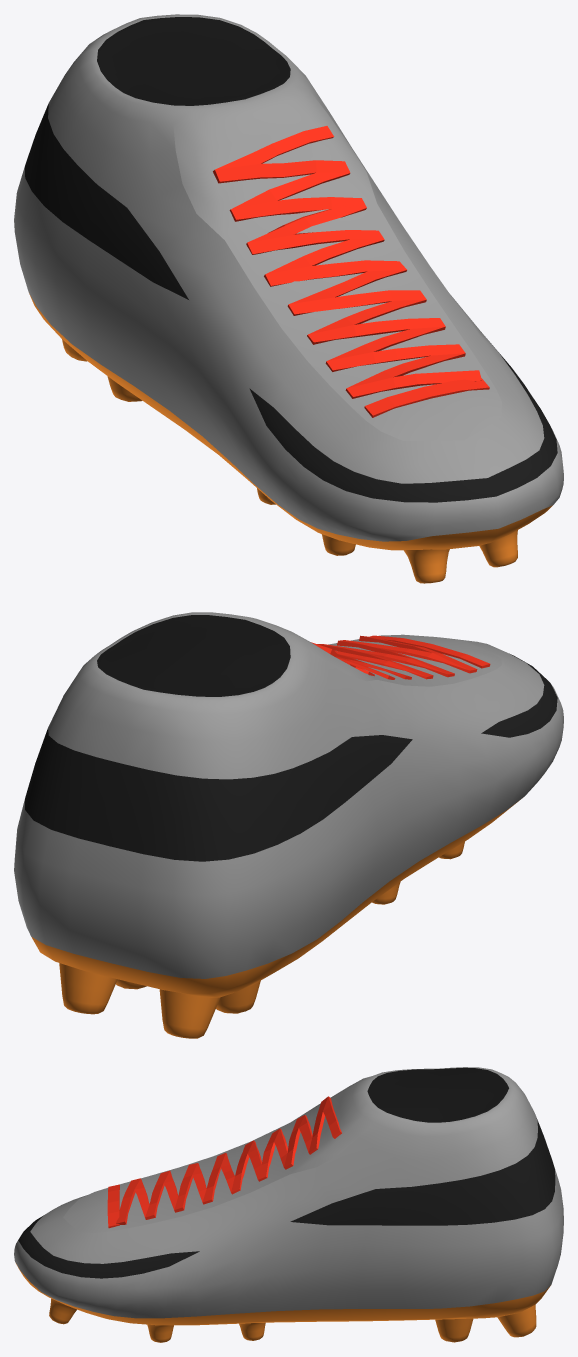
File: Boots Orange.fbx
3 renders of one model, top to bottom at view 1: azimuth 30°, elevation 25°; view 2: azimuth 150°, elevation 25°; view 3: azimuth 270°, elevation 25°, orthographic. The views are drawn at different scales.
Parts seen in each view (by area): view 1: Boots White; view 2: Boots White; view 3: Boots White.
Boxes of the visible parts, bbox=[...] form: Boots White: bbox=[14, 14, 563, 583]; Boots White: bbox=[14, 612, 563, 1038]; Boots White: bbox=[14, 1067, 563, 1342].
Bounding box in the file's own units: 41.54 × 48.39 × 103.
